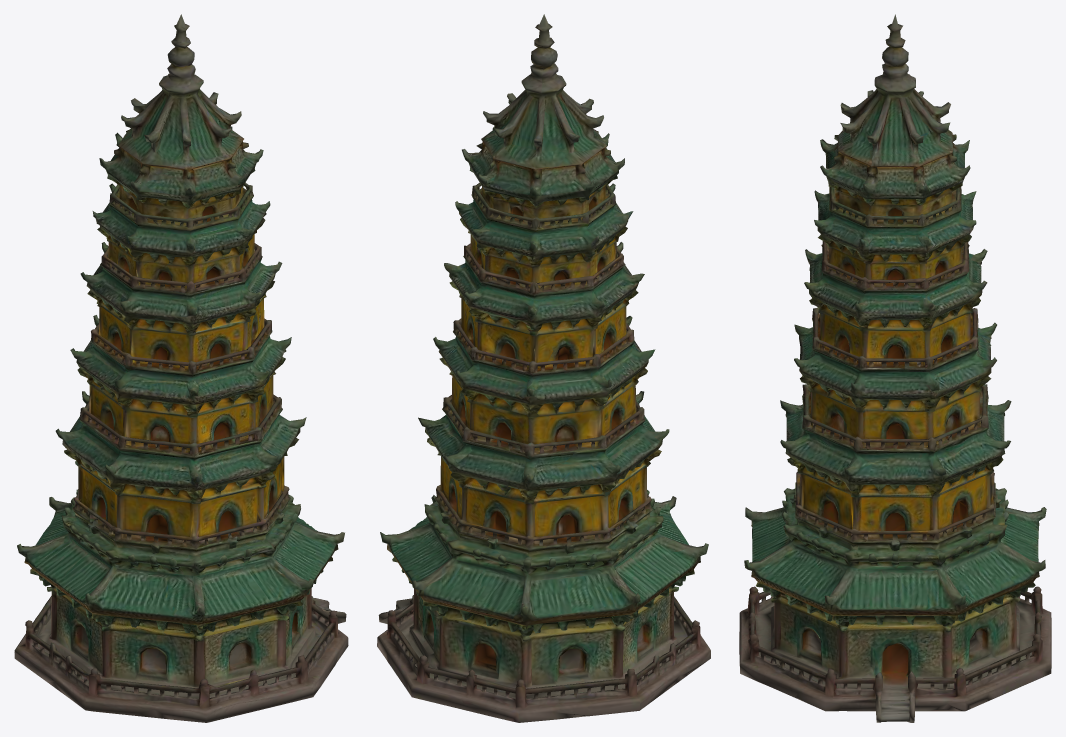
The model's file is building-feihongta.glb.
The picture shows the model from 3 angles, left to right: view 1: azimuth 30°, elevation 25°; view 2: azimuth 150°, elevation 25°; view 3: azimuth 270°, elevation 25°; orthographic projection.
Visible parts, largest first — view 1: node_52c3e4de-3ffd-472f-9894-7d464ff0bbd2; view 2: node_52c3e4de-3ffd-472f-9894-7d464ff0bbd2; view 3: node_52c3e4de-3ffd-472f-9894-7d464ff0bbd2.
Boxes of the visible parts, box(x1,y1,x2,y2) form: node_52c3e4de-3ffd-472f-9894-7d464ff0bbd2: box(14, 14, 348, 722); node_52c3e4de-3ffd-472f-9894-7d464ff0bbd2: box(377, 14, 710, 722); node_52c3e4de-3ffd-472f-9894-7d464ff0bbd2: box(739, 14, 1051, 722).
Size of the model in its own units: 0.4707 by 1 by 0.4468.
1 material, 1 textured.
